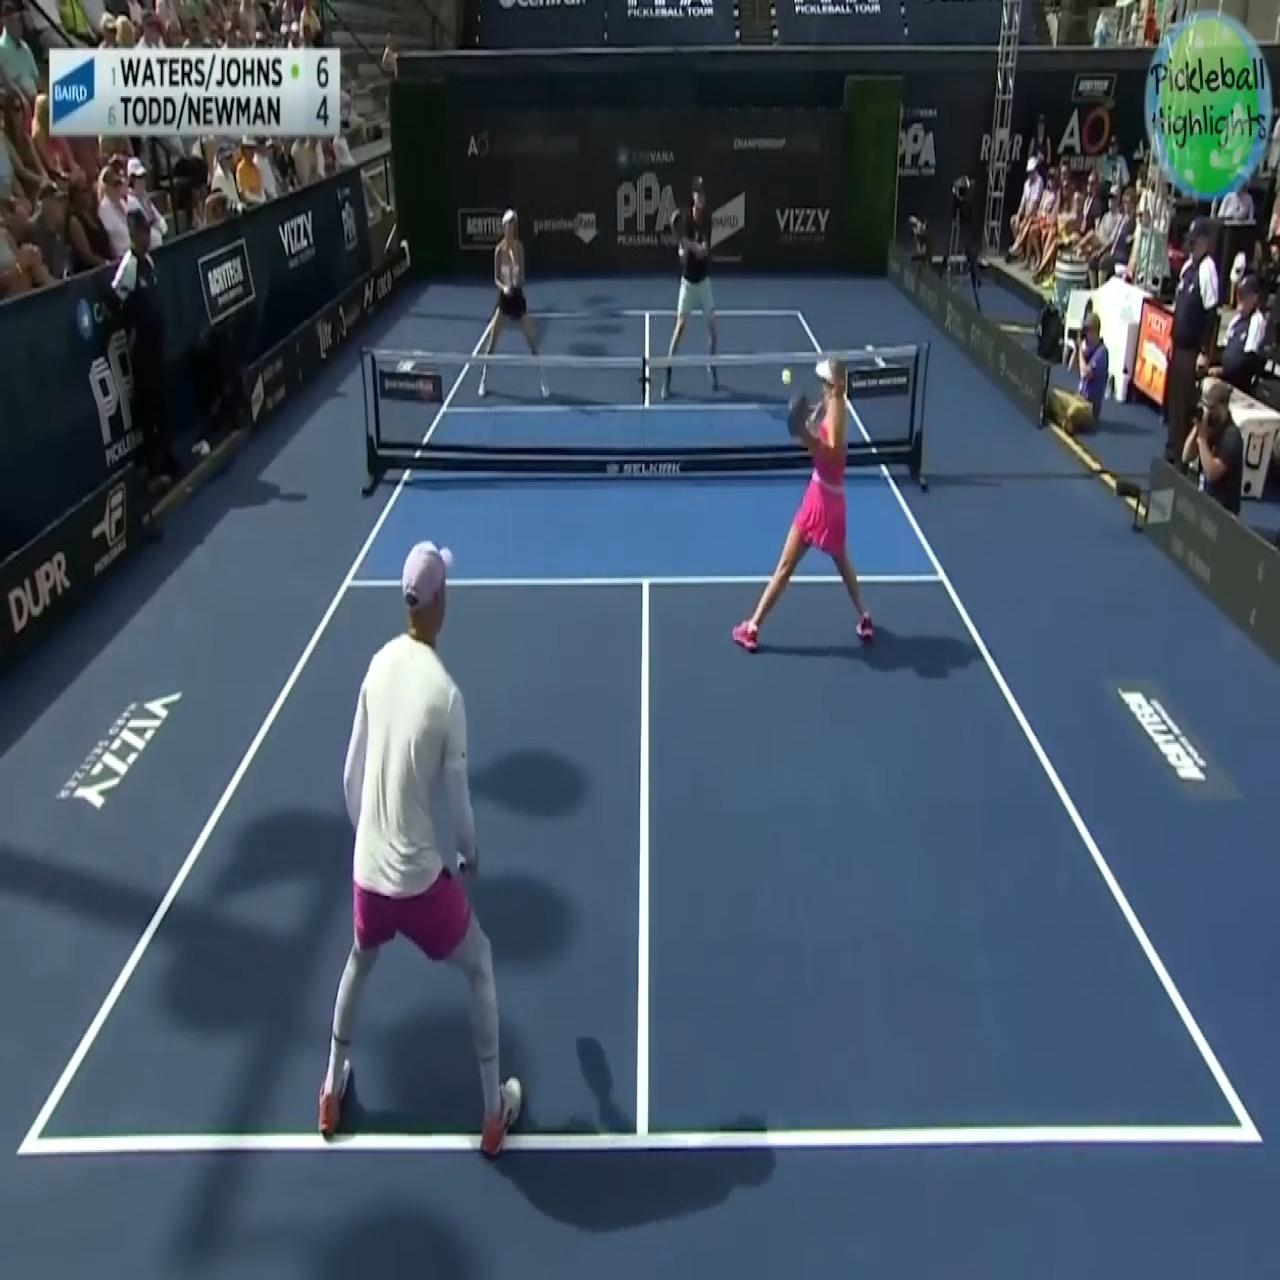Pickleball: (778, 361, 794, 389)
